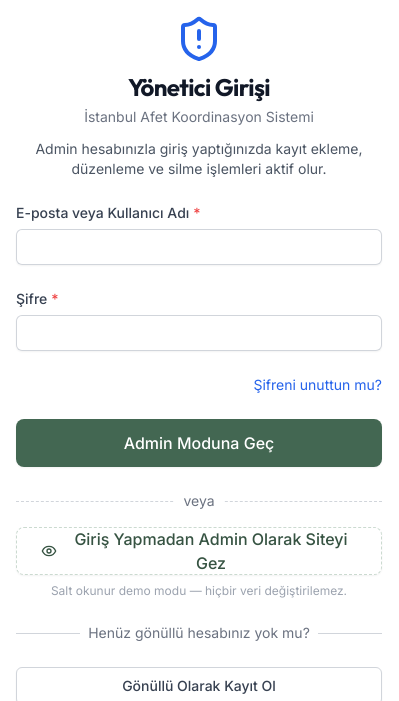
Test: Admin mode login › keeps demo permissions when credentials fail
Type "admin@example.test" into the field.
click(199, 247); type("admin@example.test")  # box x1=16 y1=229 x2=382 y2=265
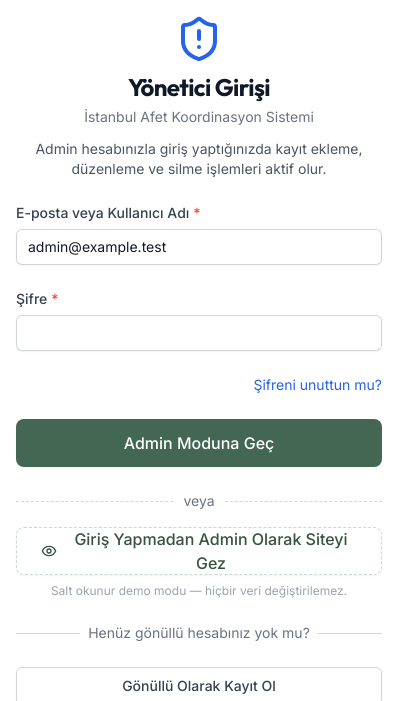
Type "test-password" into the password field labelled "Şifre*".
click(199, 333); type("test-password")  # box x1=16 y1=315 x2=382 y2=351
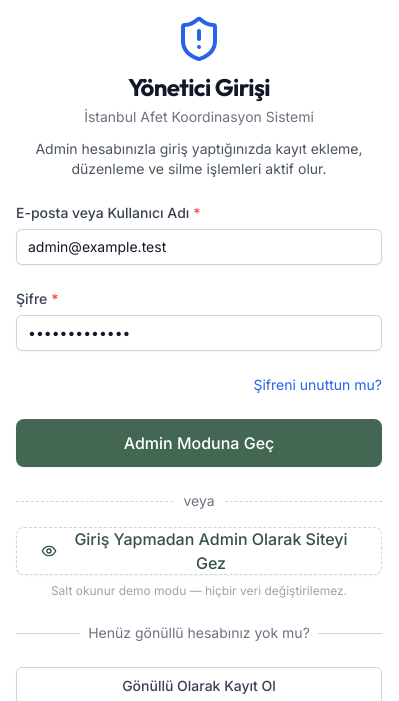
Click the button "Admin Moduna Geç".
click(199, 443)  # box x1=16 y1=419 x2=382 y2=467
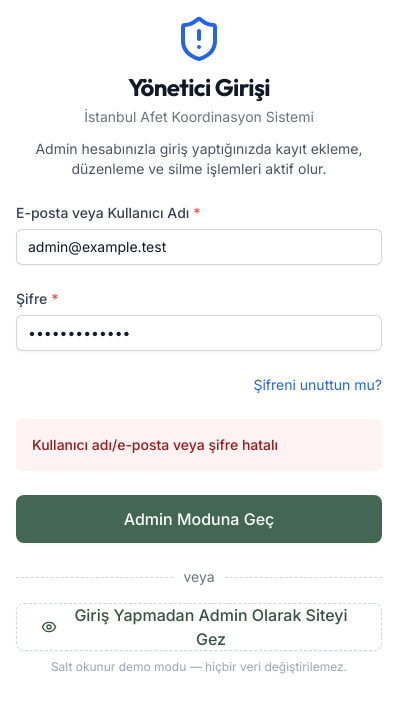
Check: the text "Kullanıcı adı/e-posta veya şifre hatalı" is shown, box x1=32 y1=436 x2=278 y2=453
